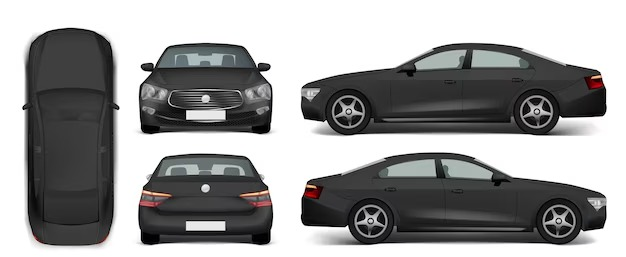car: (302, 154, 591, 244), (307, 45, 601, 133), (136, 154, 279, 246)
